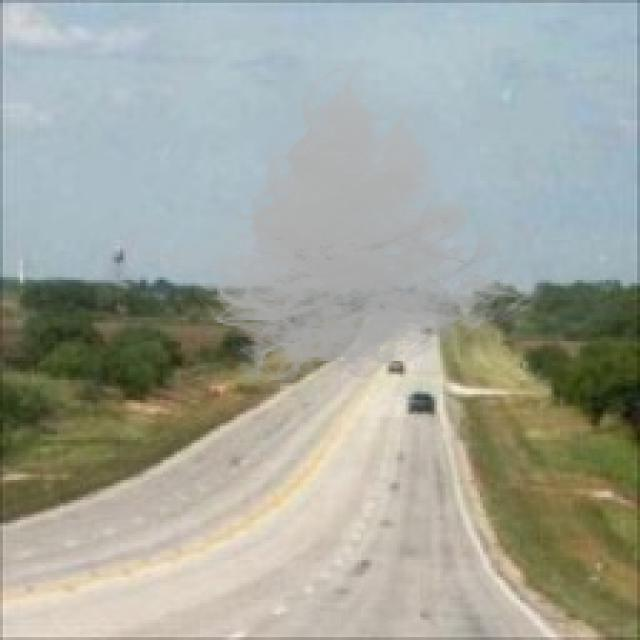smoke: (183, 57, 551, 403)
